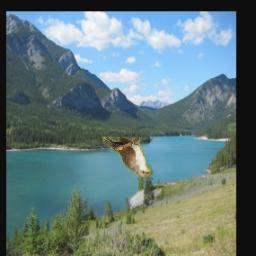Cuckoo: (102, 138, 151, 178)
